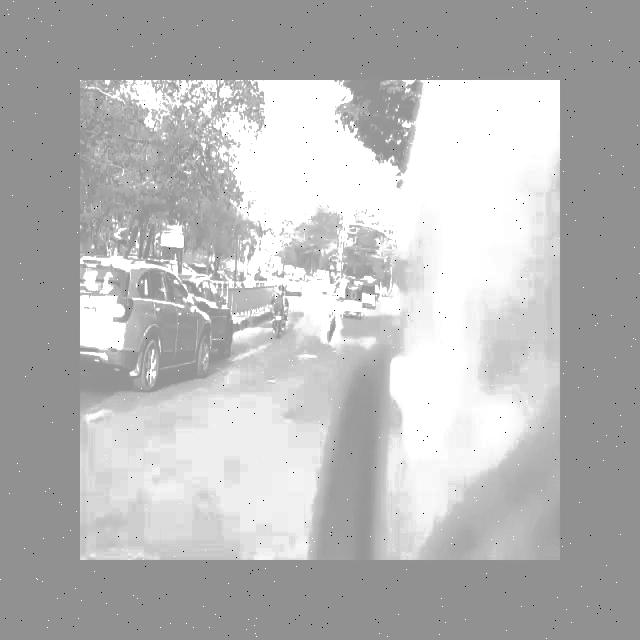Car: (79, 252, 198, 412), (199, 264, 238, 358)
